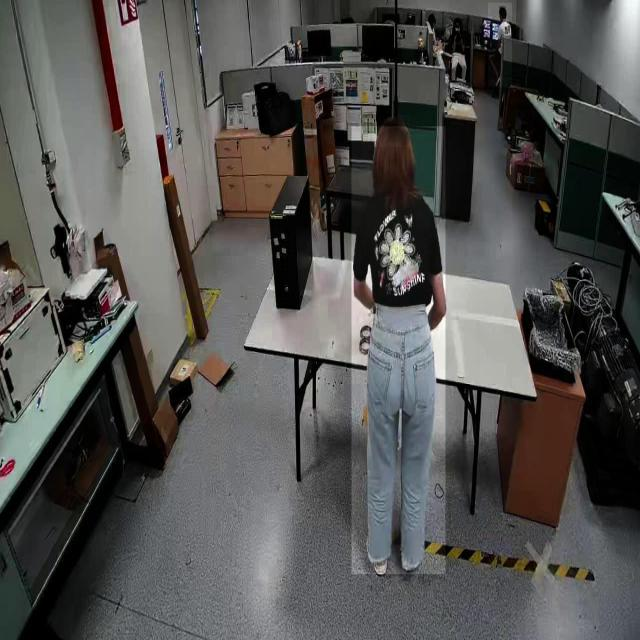face_mask: (455, 19, 463, 40)
head_nohelmet: (372, 114, 410, 148), (452, 15, 460, 23), (499, 6, 506, 14)
person: (352, 126, 446, 575), (488, 3, 512, 88), (452, 18, 472, 95)
